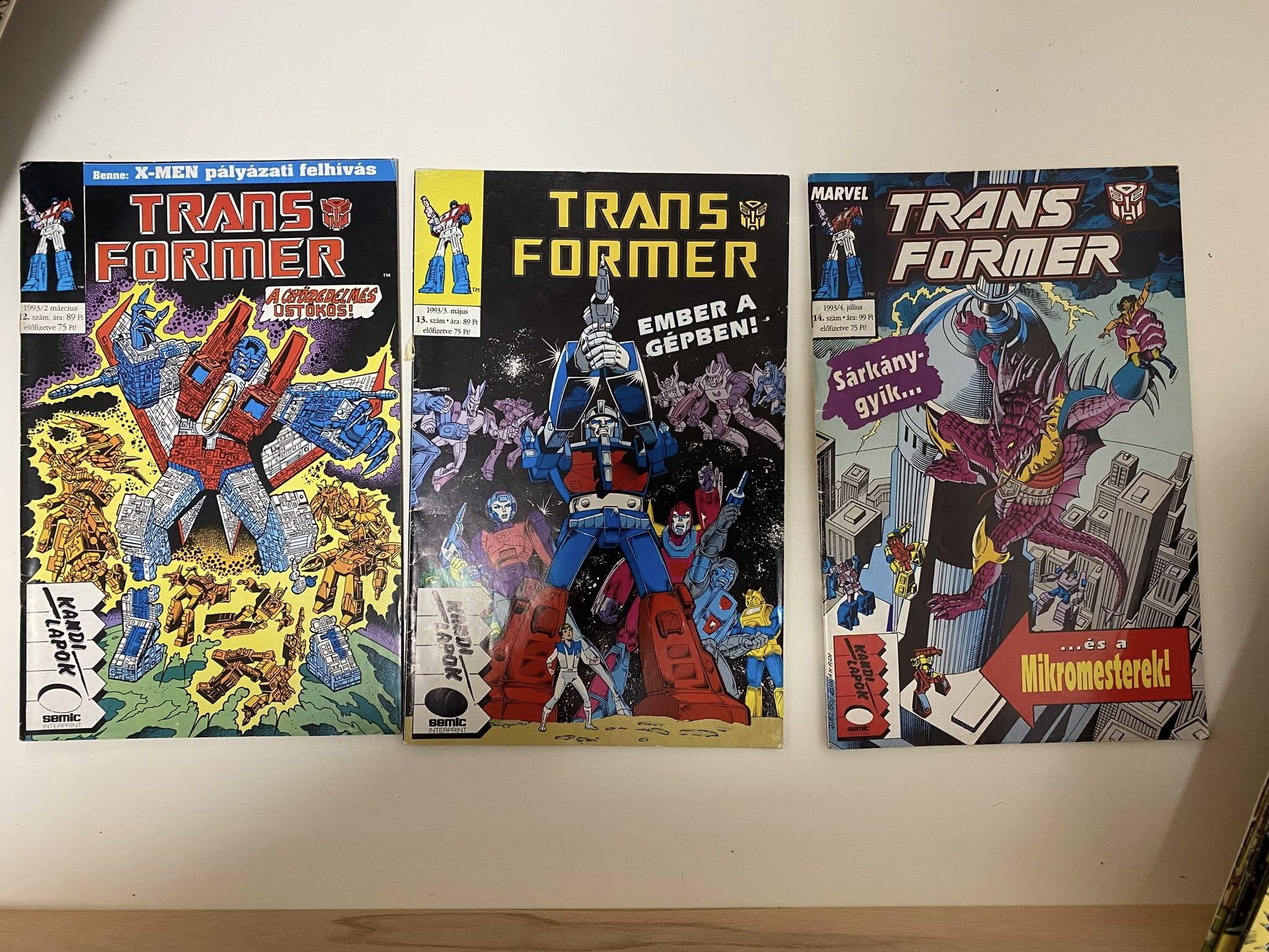comic: (805, 159, 1207, 753), (20, 159, 403, 739), (406, 170, 788, 746)
